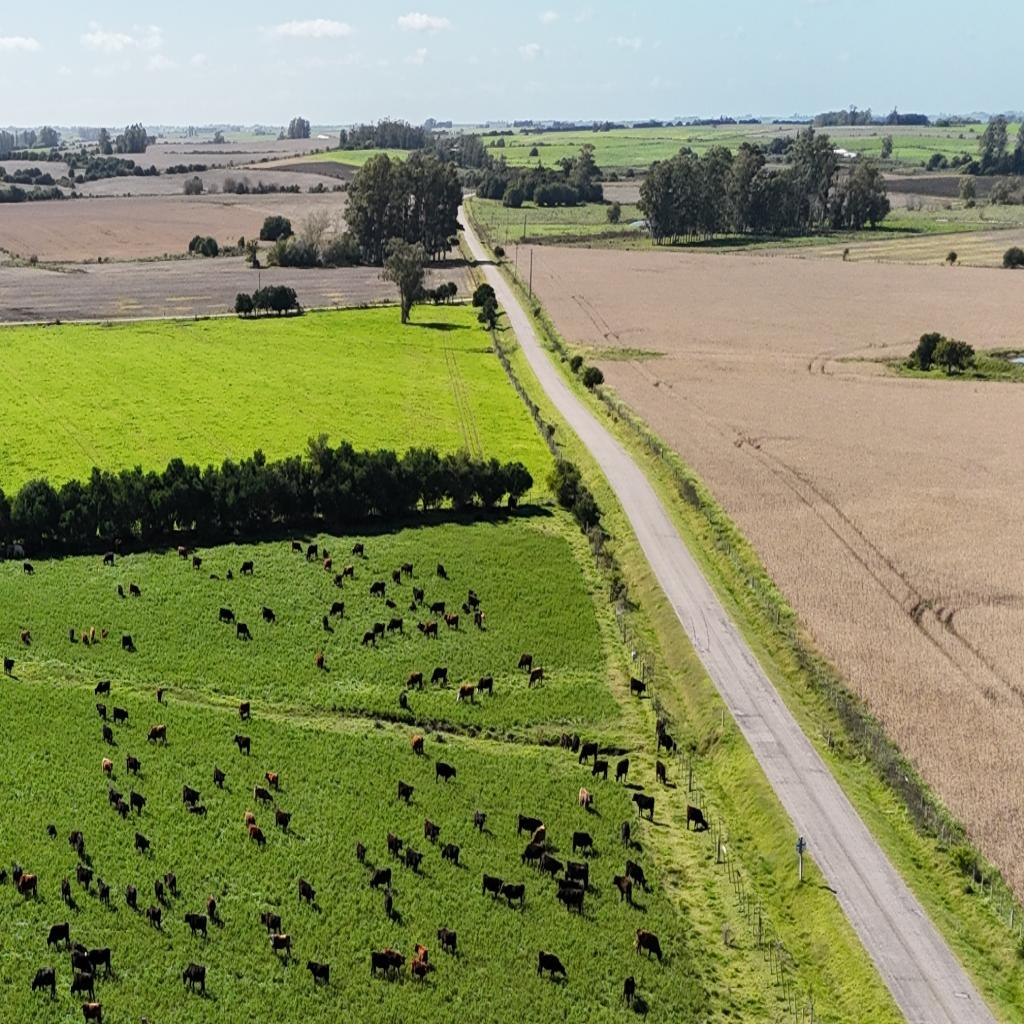cow: (537, 950, 566, 984), (634, 929, 662, 963), (557, 882, 584, 915), (30, 966, 57, 998), (86, 946, 112, 978), (182, 962, 206, 996), (565, 860, 588, 892), (624, 858, 646, 890), (500, 882, 525, 910), (521, 841, 546, 869), (539, 853, 563, 881), (184, 912, 208, 940), (70, 970, 92, 1000), (632, 792, 655, 820), (307, 959, 330, 986), (437, 925, 457, 956), (270, 932, 292, 960), (47, 922, 69, 950), (70, 942, 89, 974), (686, 804, 707, 832), (369, 867, 391, 893), (613, 874, 632, 904), (384, 946, 404, 974), (482, 873, 502, 901), (18, 872, 38, 900), (298, 877, 316, 907), (572, 829, 592, 856), (404, 847, 424, 873), (578, 741, 598, 767), (262, 909, 281, 936), (435, 761, 456, 785), (628, 993, 648, 1018), (76, 863, 93, 892), (440, 842, 460, 866), (82, 1000, 102, 1023), (274, 808, 292, 833), (410, 960, 428, 985), (622, 974, 636, 1006), (386, 832, 402, 860), (424, 817, 440, 845), (657, 730, 674, 756), (182, 784, 200, 808), (147, 723, 166, 745), (130, 789, 146, 815), (592, 759, 609, 783), (146, 904, 162, 929), (134, 831, 150, 856), (398, 780, 414, 805), (457, 683, 475, 705), (97, 880, 111, 908), (578, 786, 593, 812), (531, 823, 547, 847), (412, 942, 428, 966), (249, 824, 265, 848), (630, 676, 646, 700), (616, 757, 630, 784), (254, 786, 272, 807), (560, 731, 578, 752), (430, 666, 448, 687), (68, 829, 84, 852), (164, 870, 178, 896), (126, 755, 142, 777), (477, 675, 493, 697), (235, 735, 251, 757), (406, 672, 424, 691), (111, 706, 129, 725), (212, 764, 226, 788), (108, 786, 122, 810), (473, 810, 487, 834), (528, 667, 543, 689), (422, 620, 438, 640), (186, 801, 206, 817), (61, 877, 72, 906), (154, 878, 166, 904), (11, 861, 23, 887), (125, 884, 137, 910), (656, 759, 667, 787), (265, 770, 279, 792), (94, 680, 111, 698), (236, 622, 252, 641), (218, 607, 235, 624), (387, 617, 403, 635), (369, 581, 385, 599), (102, 724, 115, 746), (117, 798, 130, 820), (444, 612, 459, 631), (410, 735, 424, 755), (624, 782, 647, 794), (655, 717, 666, 742), (206, 894, 216, 921), (361, 630, 376, 648), (517, 653, 532, 671), (474, 609, 486, 631), (79, 851, 92, 871), (262, 606, 276, 624), (121, 634, 135, 652), (467, 589, 479, 609), (238, 700, 250, 720), (430, 601, 445, 617), (373, 622, 386, 640), (384, 889, 392, 918), (356, 841, 366, 864), (412, 587, 424, 606), (621, 821, 630, 846), (330, 602, 344, 618), (240, 560, 254, 576), (102, 757, 113, 777), (4, 656, 15, 676), (11, 838, 21, 860), (244, 810, 256, 828), (401, 563, 413, 580), (20, 630, 32, 646), (342, 564, 354, 580), (306, 545, 318, 561), (96, 704, 106, 722), (398, 692, 408, 710), (352, 543, 364, 558), (323, 615, 333, 632), (314, 652, 324, 669), (129, 583, 141, 597), (291, 540, 303, 554), (416, 620, 427, 635), (88, 625, 96, 645), (391, 569, 401, 585), (436, 563, 446, 579), (192, 556, 202, 571), (322, 558, 332, 573), (386, 598, 398, 610), (81, 630, 90, 646), (103, 553, 114, 566), (23, 562, 34, 575), (334, 574, 344, 588), (47, 824, 57, 838), (508, 495, 518, 509), (0, 869, 8, 886), (6, 543, 14, 560), (177, 546, 187, 559), (156, 686, 164, 702), (114, 538, 122, 554), (461, 602, 471, 614), (233, 527, 241, 541), (100, 627, 108, 640), (70, 627, 76, 644), (436, 733, 446, 743), (321, 548, 329, 560), (118, 584, 124, 598), (210, 572, 220, 580), (226, 570, 233, 580), (141, 1017, 148, 1024)
